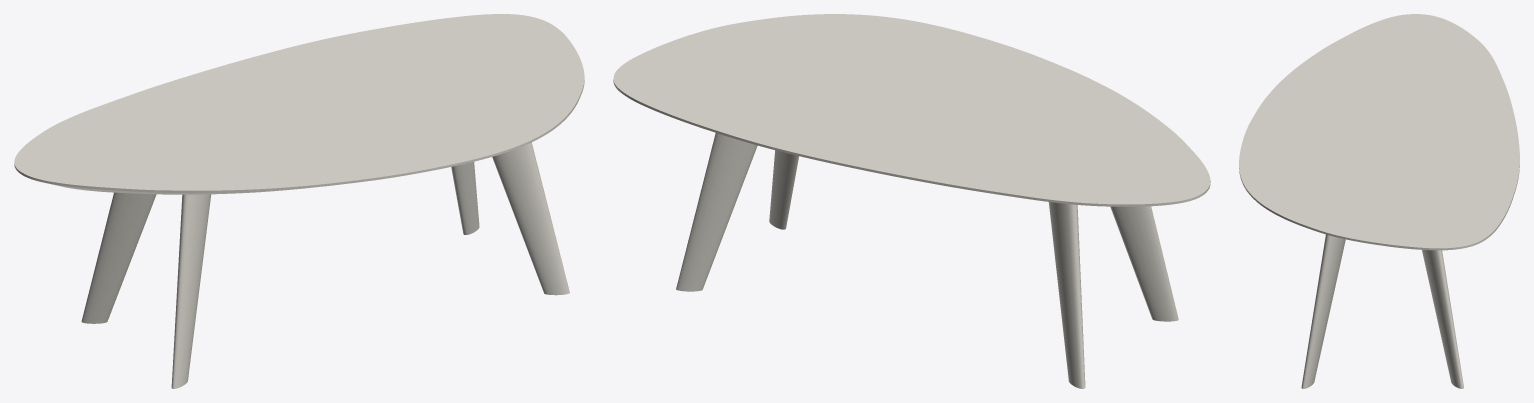
The model's file is pale_pebbletop_facet_ferdinantwalnut.glb.
3 renders of one model, left to right at view 1: azimuth 30°, elevation 25°; view 2: azimuth 150°, elevation 25°; view 3: azimuth 270°, elevation 25°, orthographic. The views are drawn at different scales.
Parts seen in each view (by area): view 1: facet_pebbletop, ferdinandwalnut; view 2: facet_pebbletop, ferdinandwalnut; view 3: facet_pebbletop, ferdinandwalnut.
Part boxes in pixels (x1,y1,x2,y2): facet_pebbletop: (14, 14, 584, 194); ferdinandwalnut: (81, 142, 569, 388); facet_pebbletop: (613, 14, 1210, 206); ferdinandwalnut: (676, 133, 1178, 388); facet_pebbletop: (1239, 14, 1519, 250); ferdinandwalnut: (1301, 234, 1463, 388).
Size of the model in its own units: 7.5 by 2.51 by 3.8.
1 material, 1 textured.
